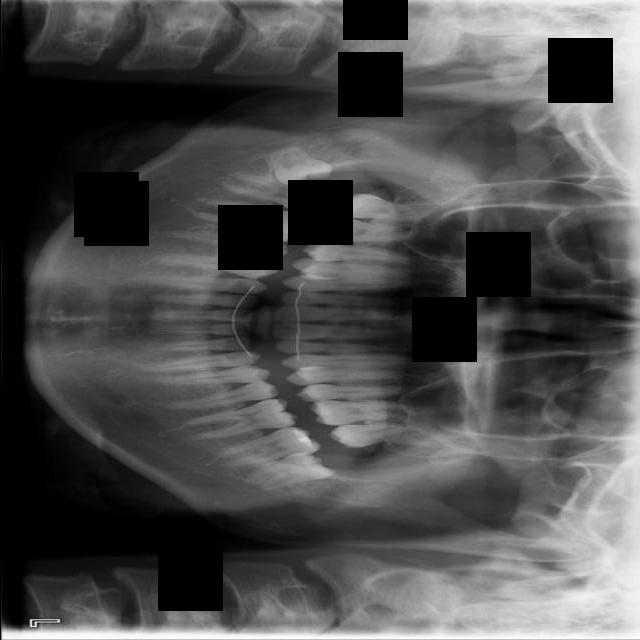73: (82, 534, 92, 538)
BioHorizons Implant: (328, 424, 444, 447)
Biomet 3i Implant: (245, 446, 336, 494)
Blue Sky Bio Implant: (214, 420, 320, 472)
Caries: (334, 192, 442, 225)
Implant: (222, 172, 332, 216)
Keystone Dental Implant: (266, 139, 333, 190)
